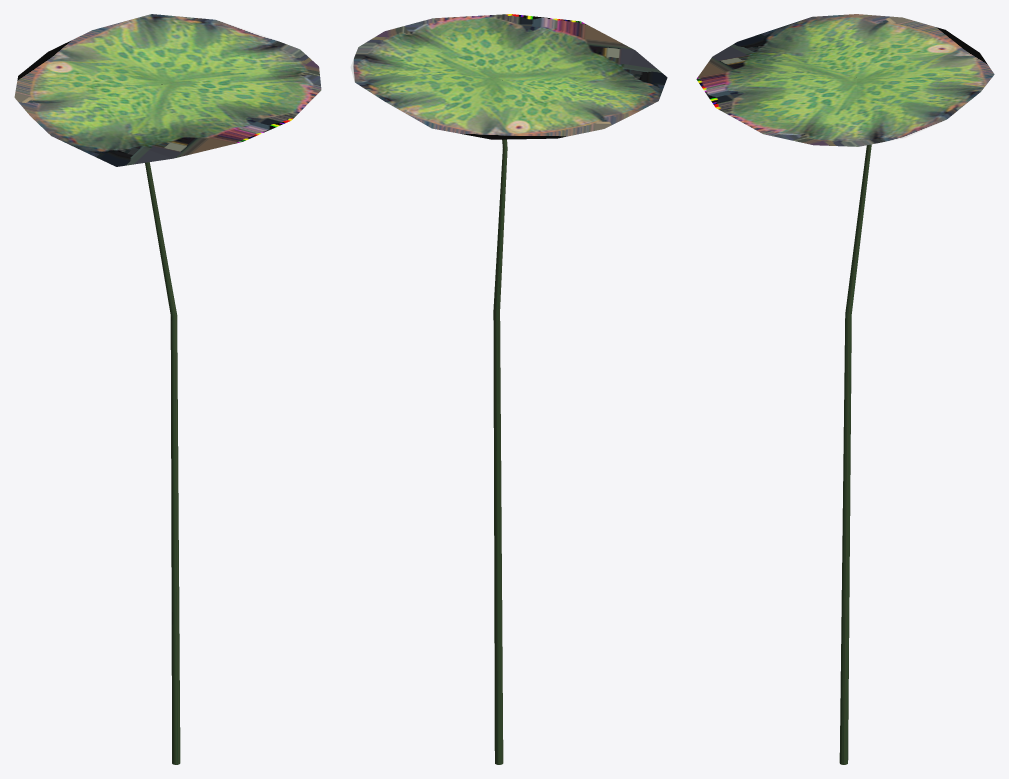
The model's file is pond_leaf03.glb.
3 renders of one model, left to right at view 1: azimuth 30°, elevation 25°; view 2: azimuth 150°, elevation 25°; view 3: azimuth 270°, elevation 25°, orthographic.
Visible parts, largest first — view 1: leaf_03_Plants_0; view 2: leaf_03_Plants_0; view 3: leaf_03_Plants_0.
Boxes of the visible parts, bbox=[...] form: leaf_03_Plants_0: bbox=[14, 14, 321, 764]; leaf_03_Plants_0: bbox=[350, 14, 667, 764]; leaf_03_Plants_0: bbox=[696, 14, 994, 764].
Bounding box in the file's own units: 0.5195 × 1.26 × 0.4905.
1 material, 1 textured.
